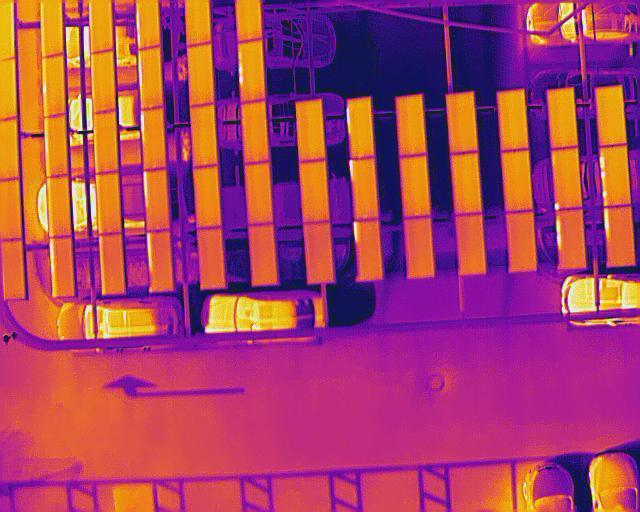Cell: (552, 148, 580, 208)
No-Anomaly: (400, 154, 430, 217), (595, 85, 625, 145), (305, 221, 334, 283), (350, 158, 379, 220), (300, 162, 330, 221), (404, 217, 433, 278), (296, 98, 324, 161), (355, 220, 384, 280), (456, 214, 485, 274), (453, 151, 480, 214), (397, 95, 425, 155), (549, 88, 577, 148), (504, 150, 531, 211), (500, 90, 527, 151), (508, 211, 534, 272), (449, 94, 476, 152), (249, 224, 275, 284), (97, 172, 122, 234), (246, 162, 271, 224), (199, 229, 225, 288), (2, 240, 27, 301), (101, 234, 126, 295), (47, 177, 72, 238), (195, 168, 220, 229), (45, 115, 70, 176), (95, 111, 120, 172), (347, 97, 372, 158), (244, 100, 268, 163), (92, 52, 116, 112), (192, 104, 215, 166), (190, 41, 212, 105), (0, 179, 22, 239), (0, 118, 20, 180)
Unclassified: (601, 146, 629, 206), (558, 209, 585, 269), (605, 206, 632, 266), (145, 169, 170, 231), (50, 237, 75, 297), (43, 54, 67, 116), (148, 230, 172, 291), (239, 41, 263, 102), (142, 106, 165, 169), (139, 48, 162, 108)
